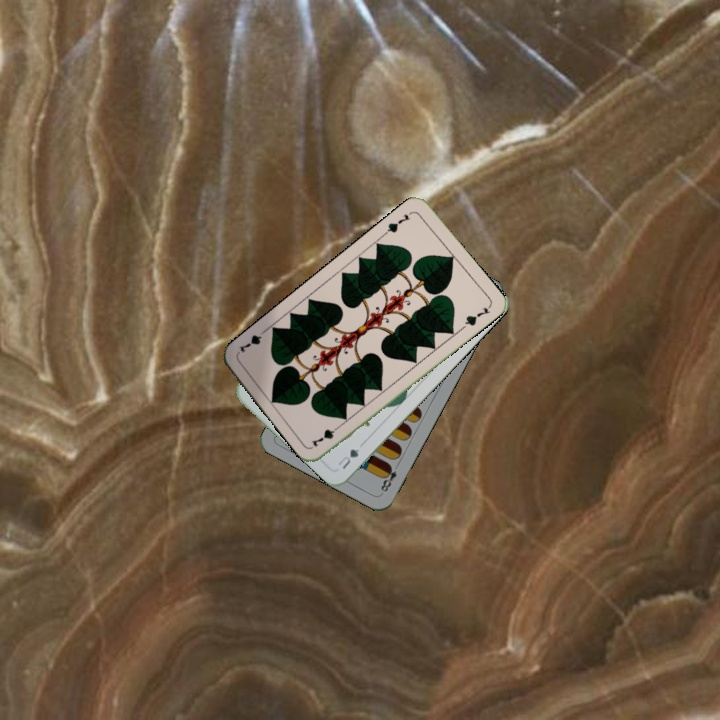E8: (377, 461, 400, 496)
G7: (307, 420, 345, 450), (380, 207, 415, 237)
GU: (334, 445, 362, 472)
